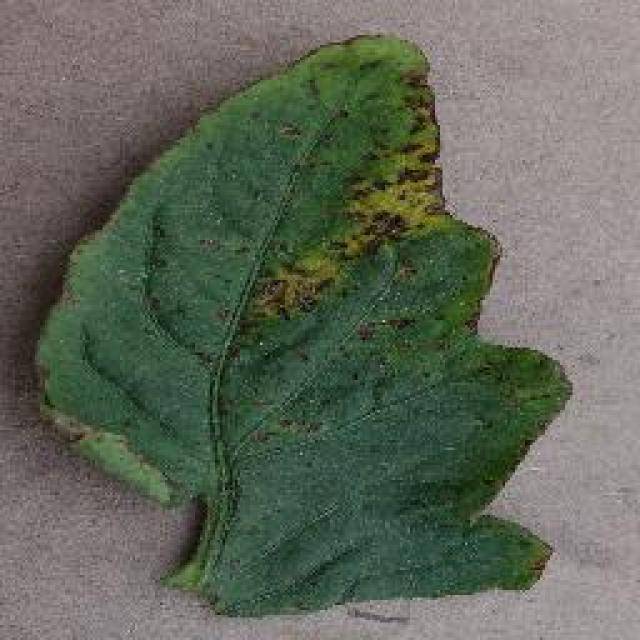Tomato bacterial spot leaf: (22, 27, 580, 618)
